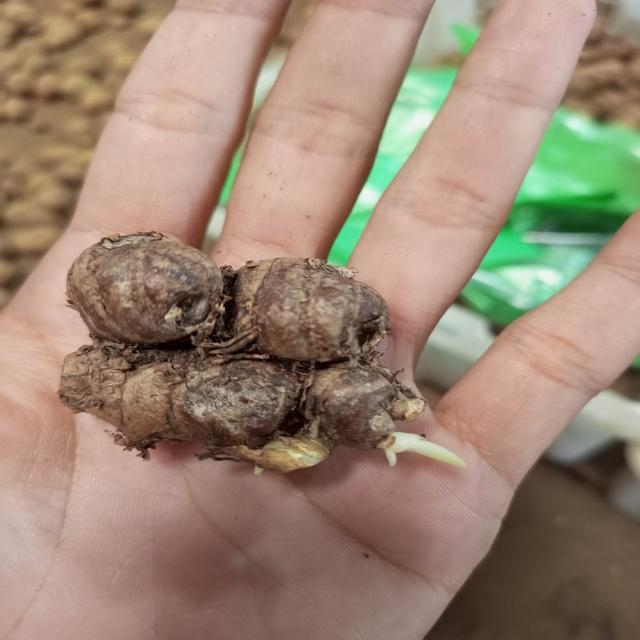ginger: (64, 235, 406, 449)
